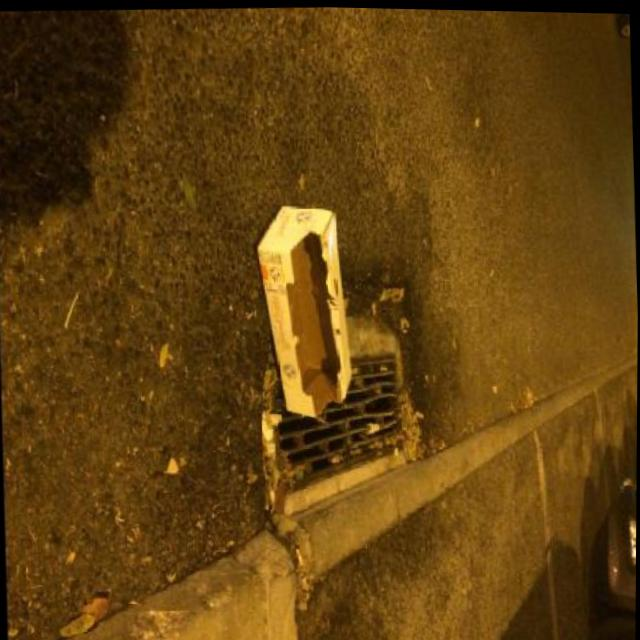cardboard: (252, 200, 354, 421)
